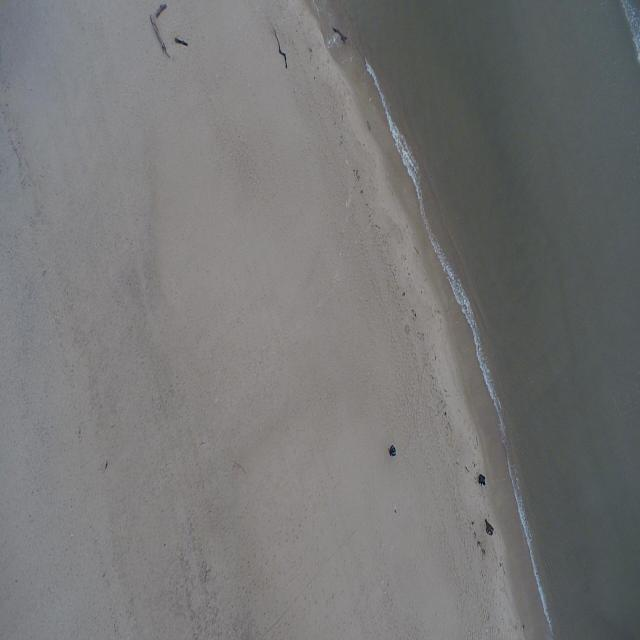p3rson: (484, 518, 494, 536), (478, 474, 486, 486), (389, 444, 396, 457)
